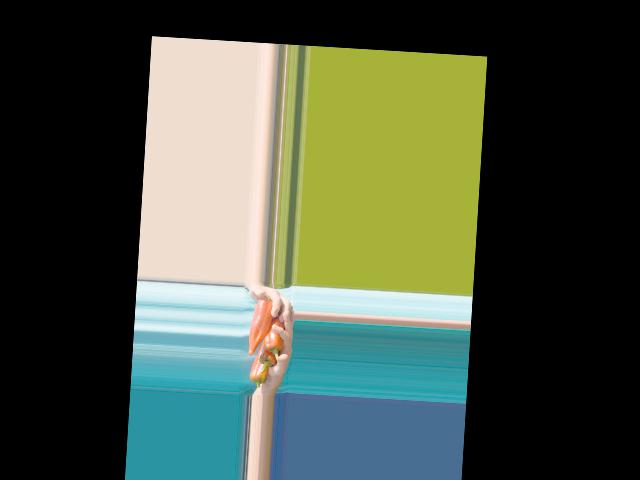bell_pepper: (249, 350, 271, 388)
